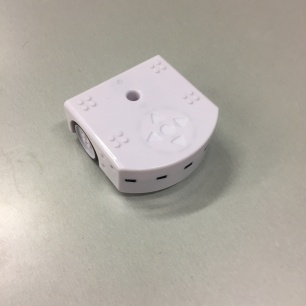thymio: (56, 46, 239, 198)
